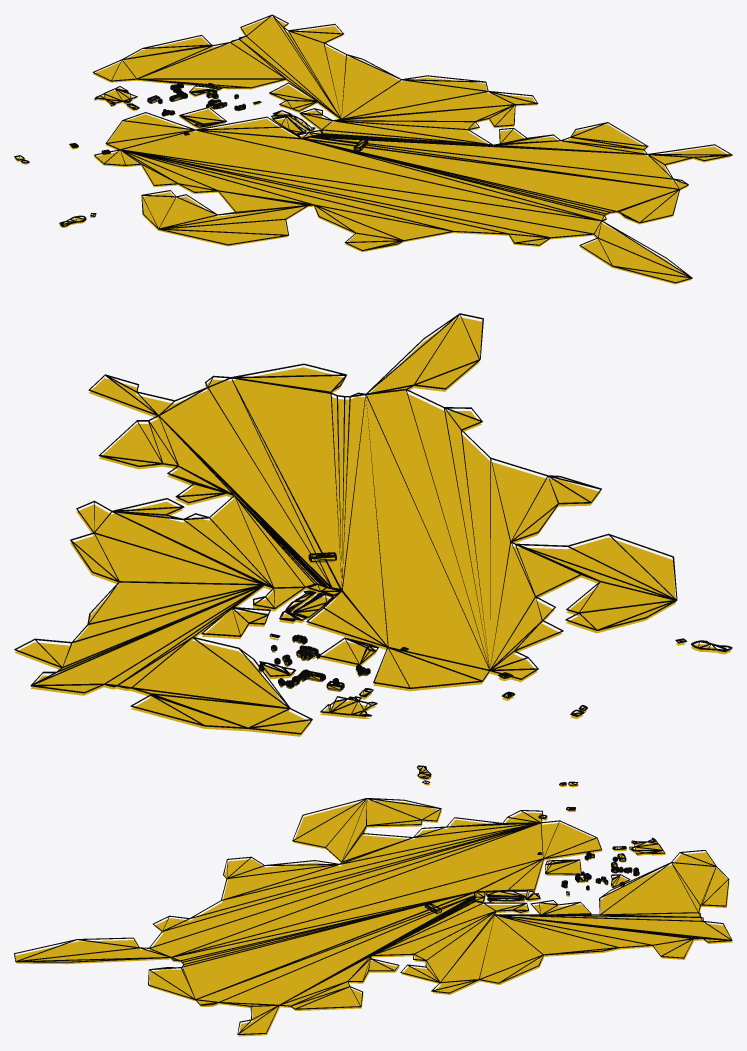
The model's file is shantiniketan.glb.
3 views of the same model, one above another, from view 1: azimuth 30°, elevation 25°; view 2: azimuth 150°, elevation 25°; view 3: azimuth 270°, elevation 25° (orthographic). The views are drawn at different scales.
Parts seen in each view (by area): view 1: 1139145788; view 2: 1139145788; view 3: 1139145788.
Boxes of the visible parts, x1,y1,x2,y2 form: 1139145788: (14,14,732,284); 1139145788: (14,313,732,736); 1139145788: (14,765,732,1036).
Size of the model in its own units: 0.4603 by 0.00373 by 0.5199.
